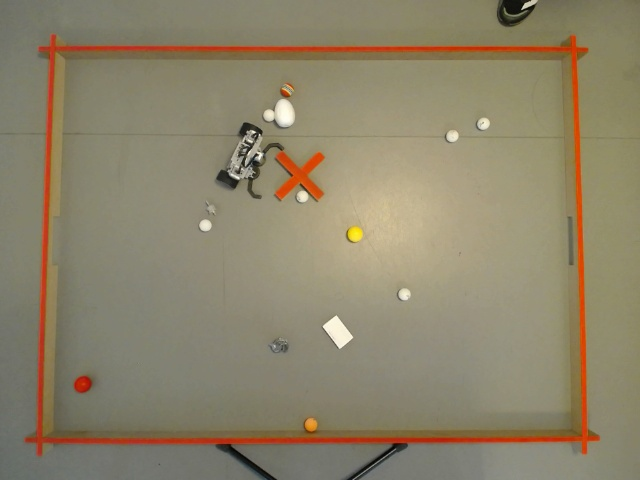big_goal: (566, 217, 573, 265), (52, 217, 59, 264)
cross: (274, 152, 326, 200)
egg: (275, 99, 296, 126)
orange: (303, 417, 318, 431)
robot: (215, 122, 284, 201)
wall: (54, 60, 571, 430)
white: (293, 189, 312, 206), (196, 218, 213, 234), (444, 129, 462, 144), (476, 116, 491, 131), (398, 288, 412, 302), (263, 108, 274, 122)
